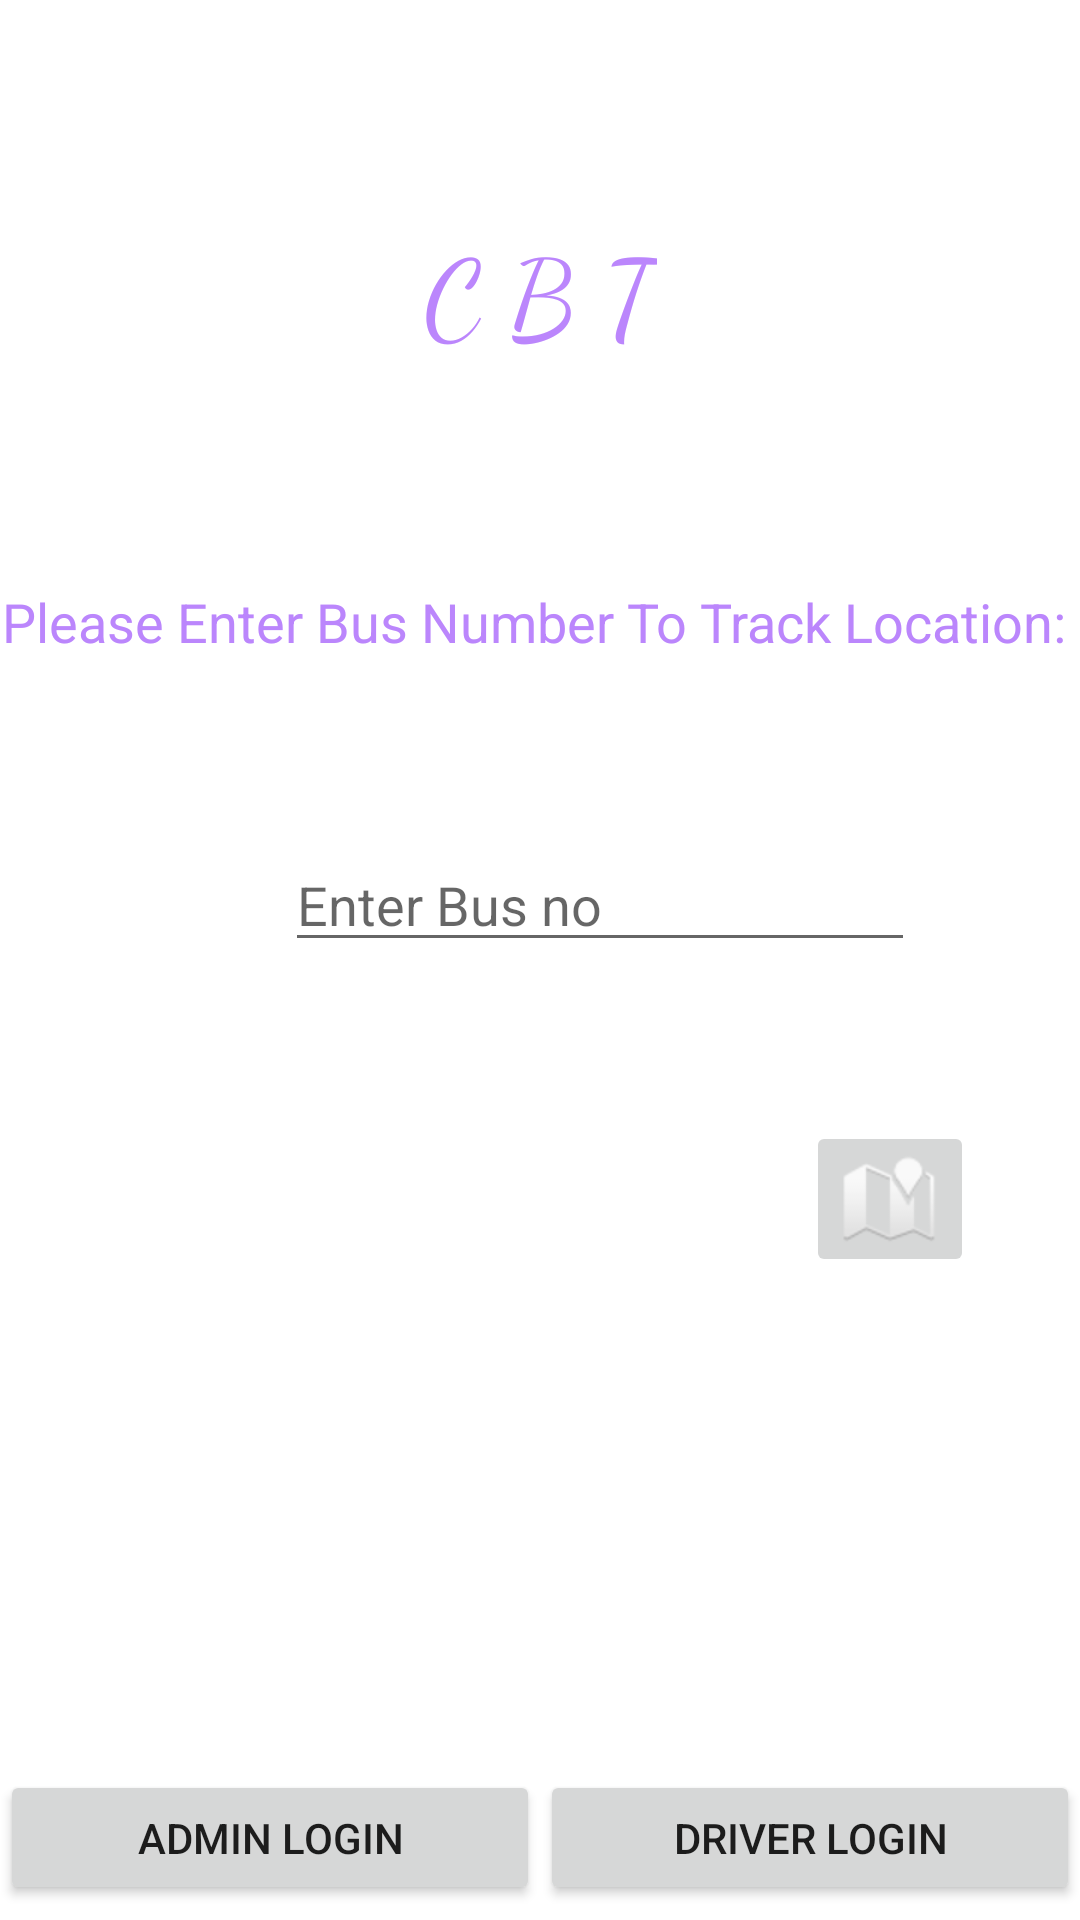

Icon bounding boxes for this 1080x1920 phone screenshot, format (x1, y1, x2, y2):
map: (818, 1139, 962, 1259)
